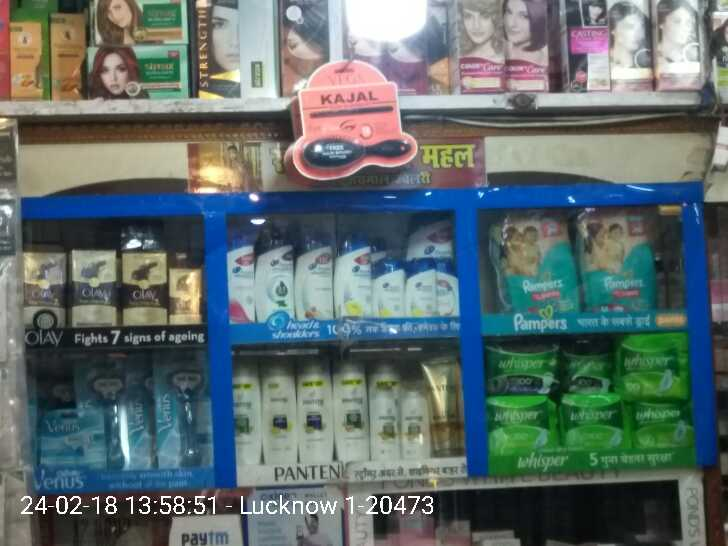venus: (84, 361, 154, 469), (153, 352, 208, 469), (39, 410, 83, 465)
